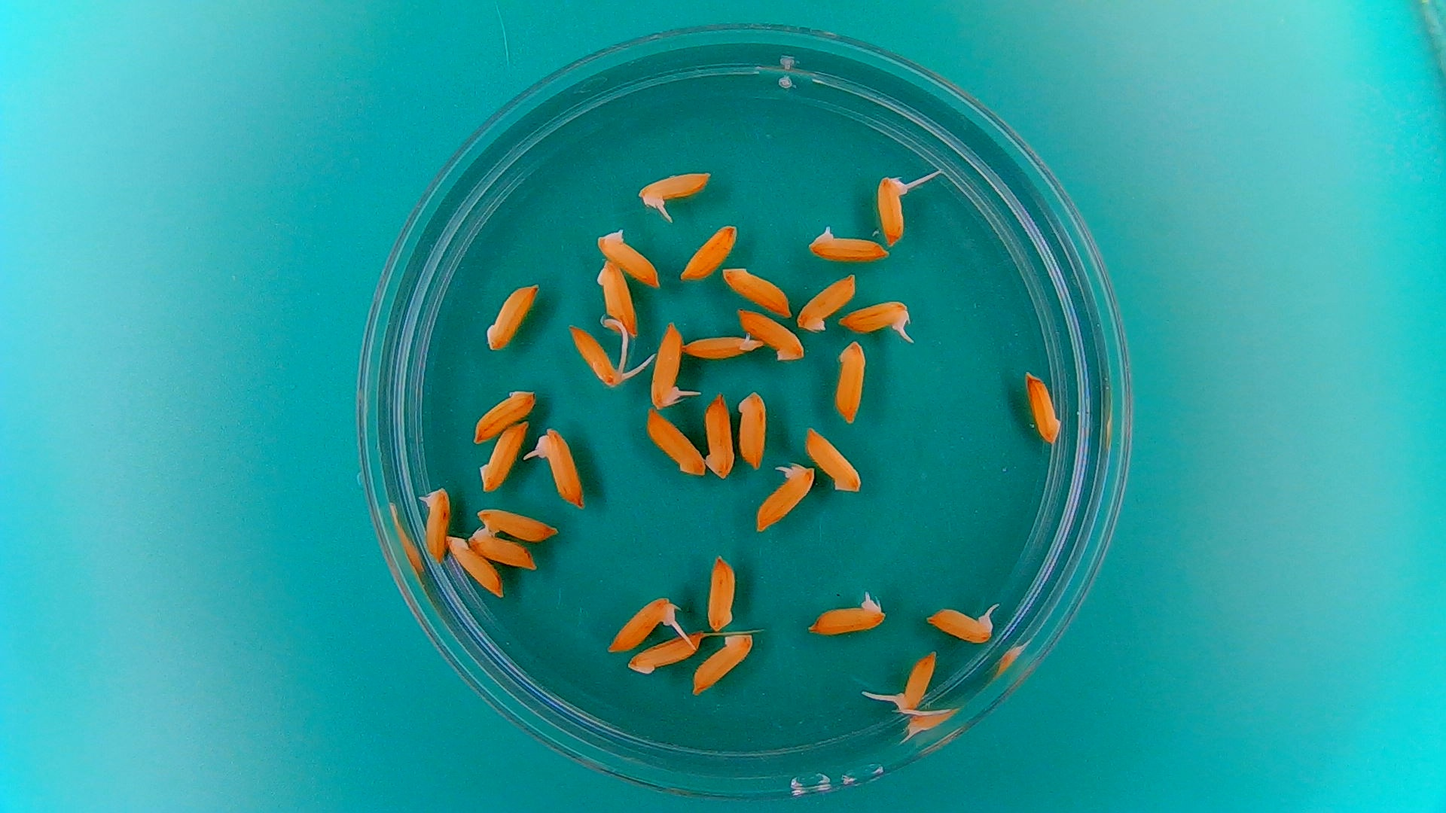no: (593, 224, 664, 291), (642, 406, 707, 479), (804, 426, 869, 498), (484, 279, 542, 356), (476, 416, 532, 495), (718, 262, 795, 317), (794, 269, 859, 333), (446, 531, 505, 601), (736, 307, 807, 365), (676, 220, 740, 283), (468, 389, 538, 443), (691, 633, 754, 693), (803, 224, 894, 264), (1021, 368, 1066, 448), (624, 629, 703, 674), (596, 256, 640, 336), (462, 528, 540, 572), (831, 337, 869, 426), (701, 390, 737, 483), (735, 388, 770, 472), (681, 327, 763, 361), (476, 508, 558, 542), (705, 551, 739, 632)
yes: (755, 461, 815, 531), (606, 595, 676, 654), (537, 430, 585, 507), (572, 321, 628, 386), (646, 318, 685, 407), (639, 169, 713, 213), (837, 297, 913, 336), (810, 596, 885, 635), (891, 652, 937, 714), (874, 176, 912, 248), (418, 482, 451, 564), (932, 607, 994, 645)
